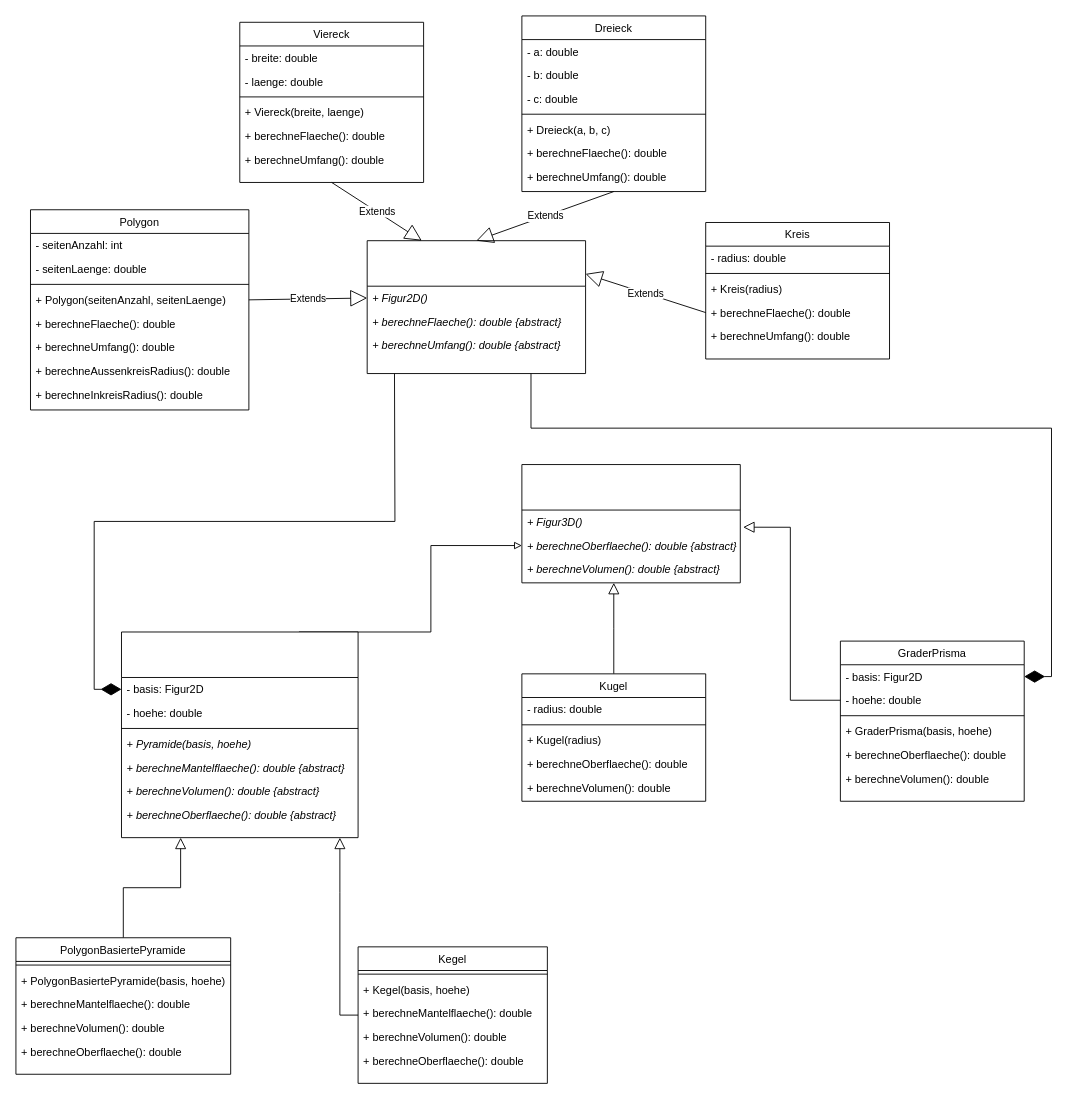
Image size: 1087x1099. Some labels were removed from this diagram. The box of each missing label's shape, as (x1, y1, x2, y2) in pixels:
Figur2D {abstract}: (366, 240, 586, 374)
Figur3D {abstract}: (521, 464, 740, 583)
Pyramide {abstract}: (121, 631, 358, 838)
